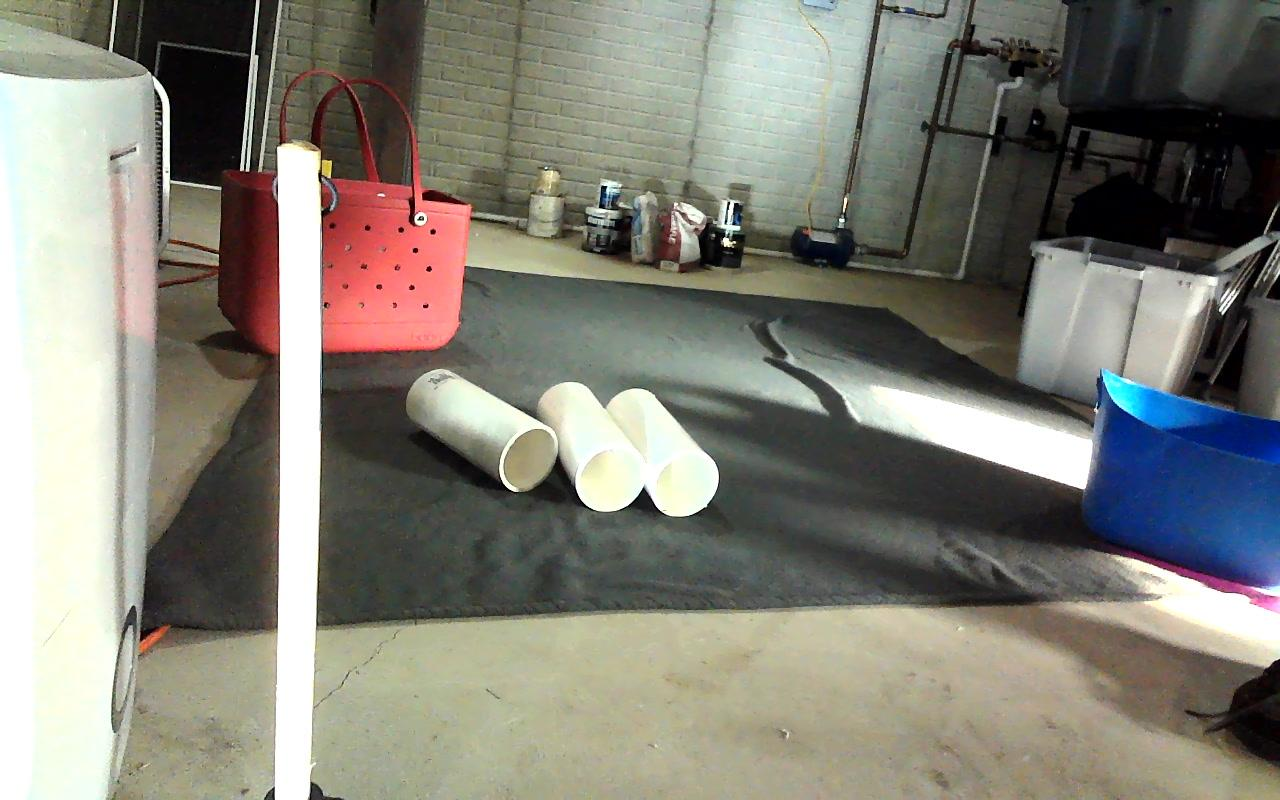coral: (405, 370, 556, 492), (612, 388, 717, 515), (542, 383, 643, 511)
